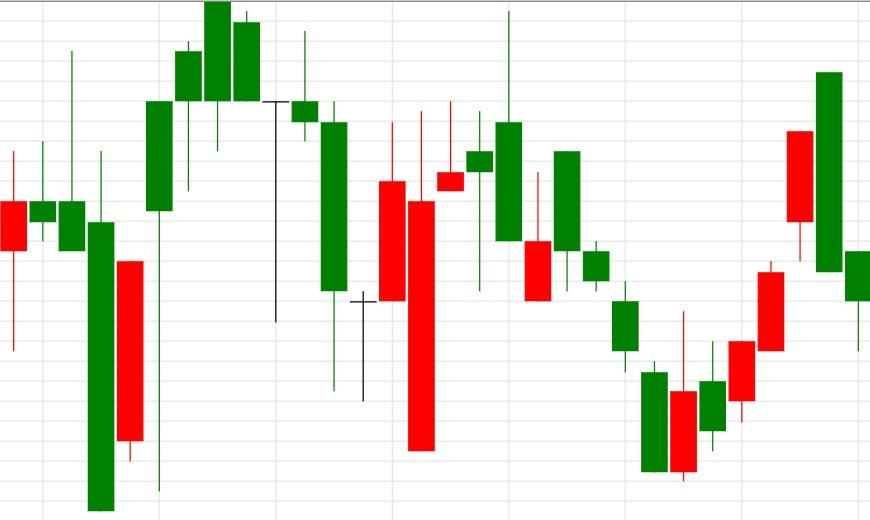bearish_engulfing_fall: (669, 71, 843, 483)
morning_star_rise: (204, 0, 407, 402)
